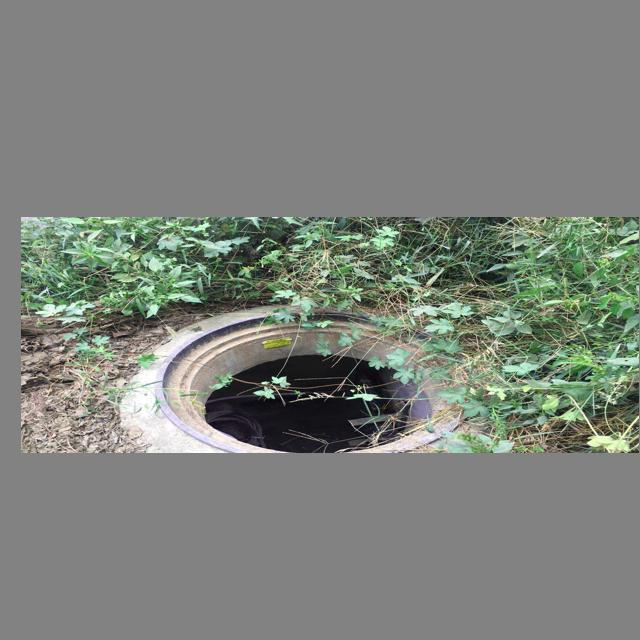lose: (140, 304, 496, 450)
